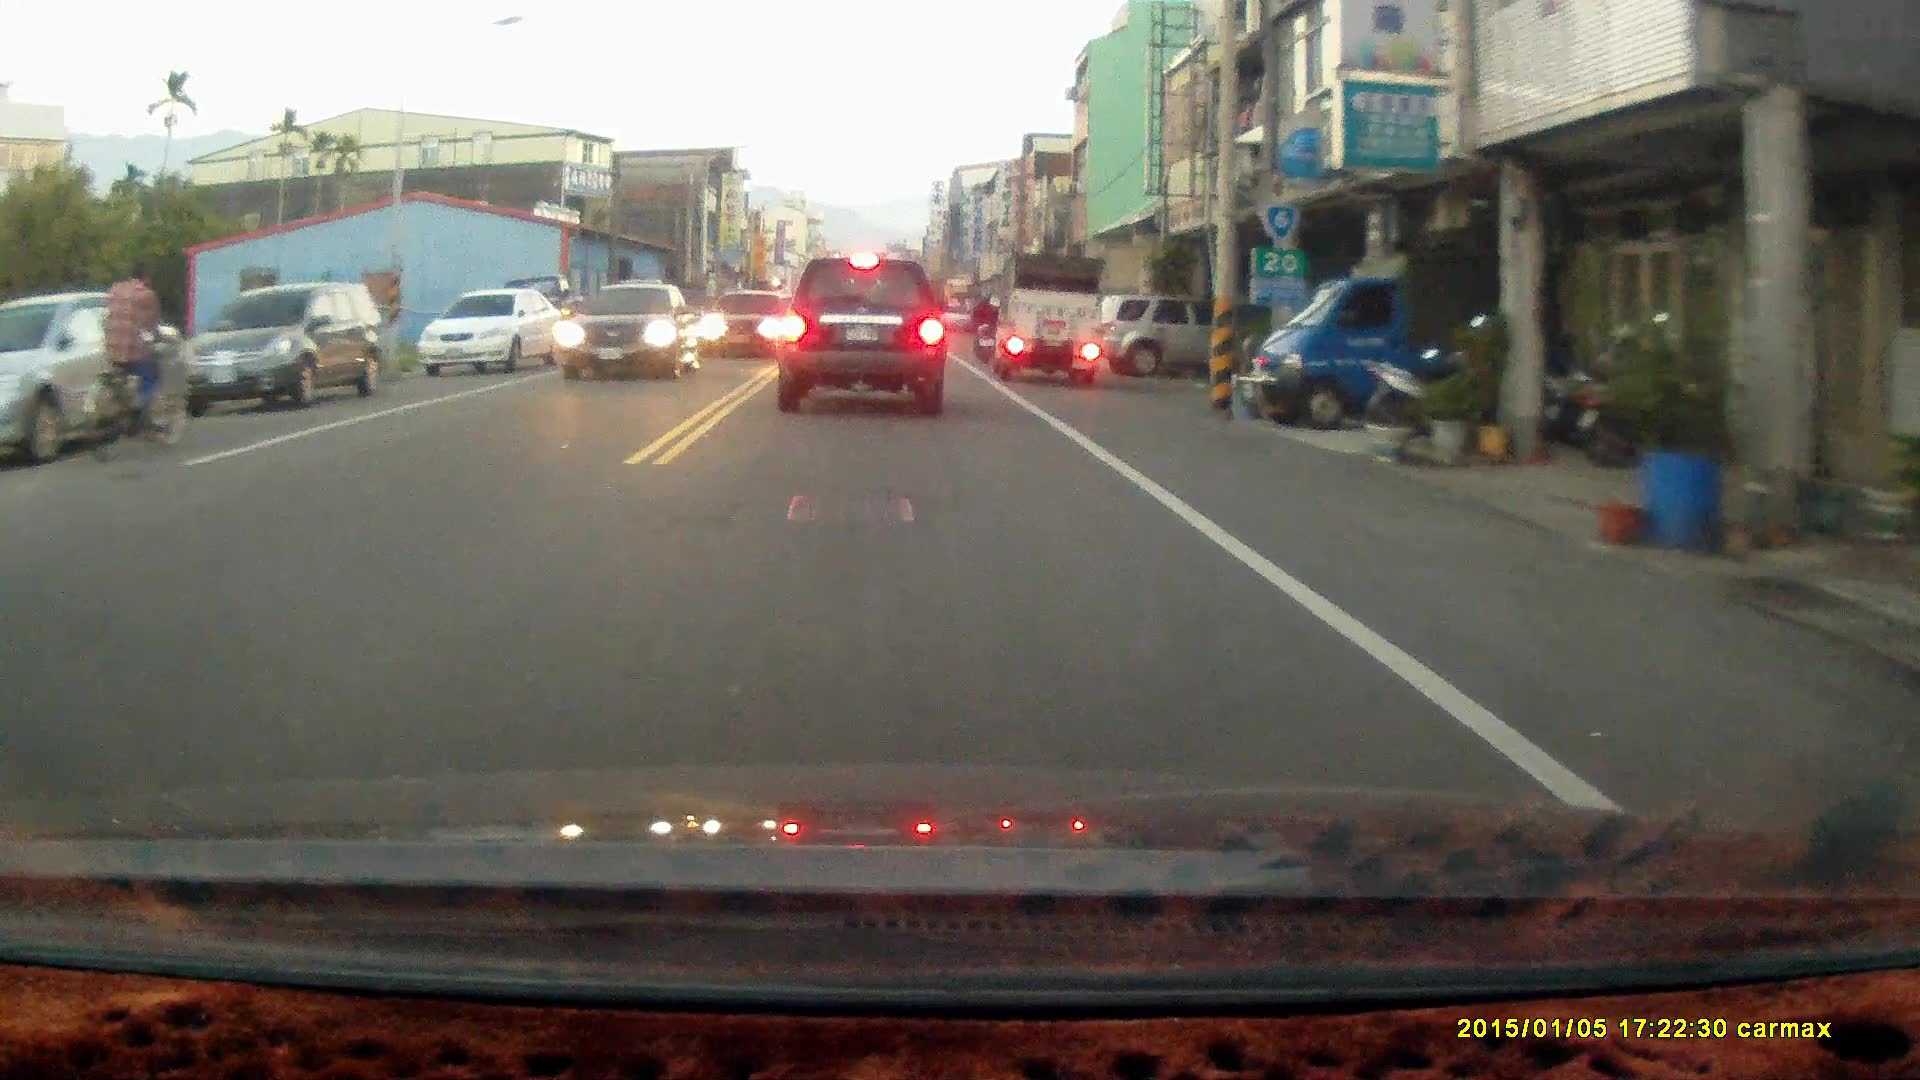rider: (79, 254, 190, 465), (967, 283, 1002, 362)
vehicle: (1259, 220, 1502, 432), (1, 291, 209, 463), (170, 279, 391, 411), (774, 257, 948, 420), (558, 279, 697, 381), (999, 250, 1105, 384), (421, 286, 572, 375), (1099, 290, 1209, 379), (703, 288, 790, 357)
